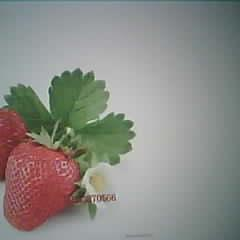straw-ripe: (3, 141, 79, 229)
